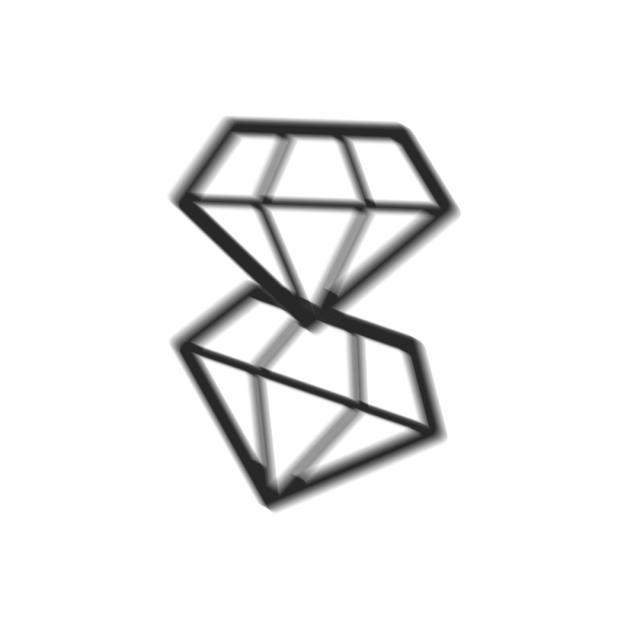diamond: (165, 278, 455, 516), (165, 116, 464, 338)
